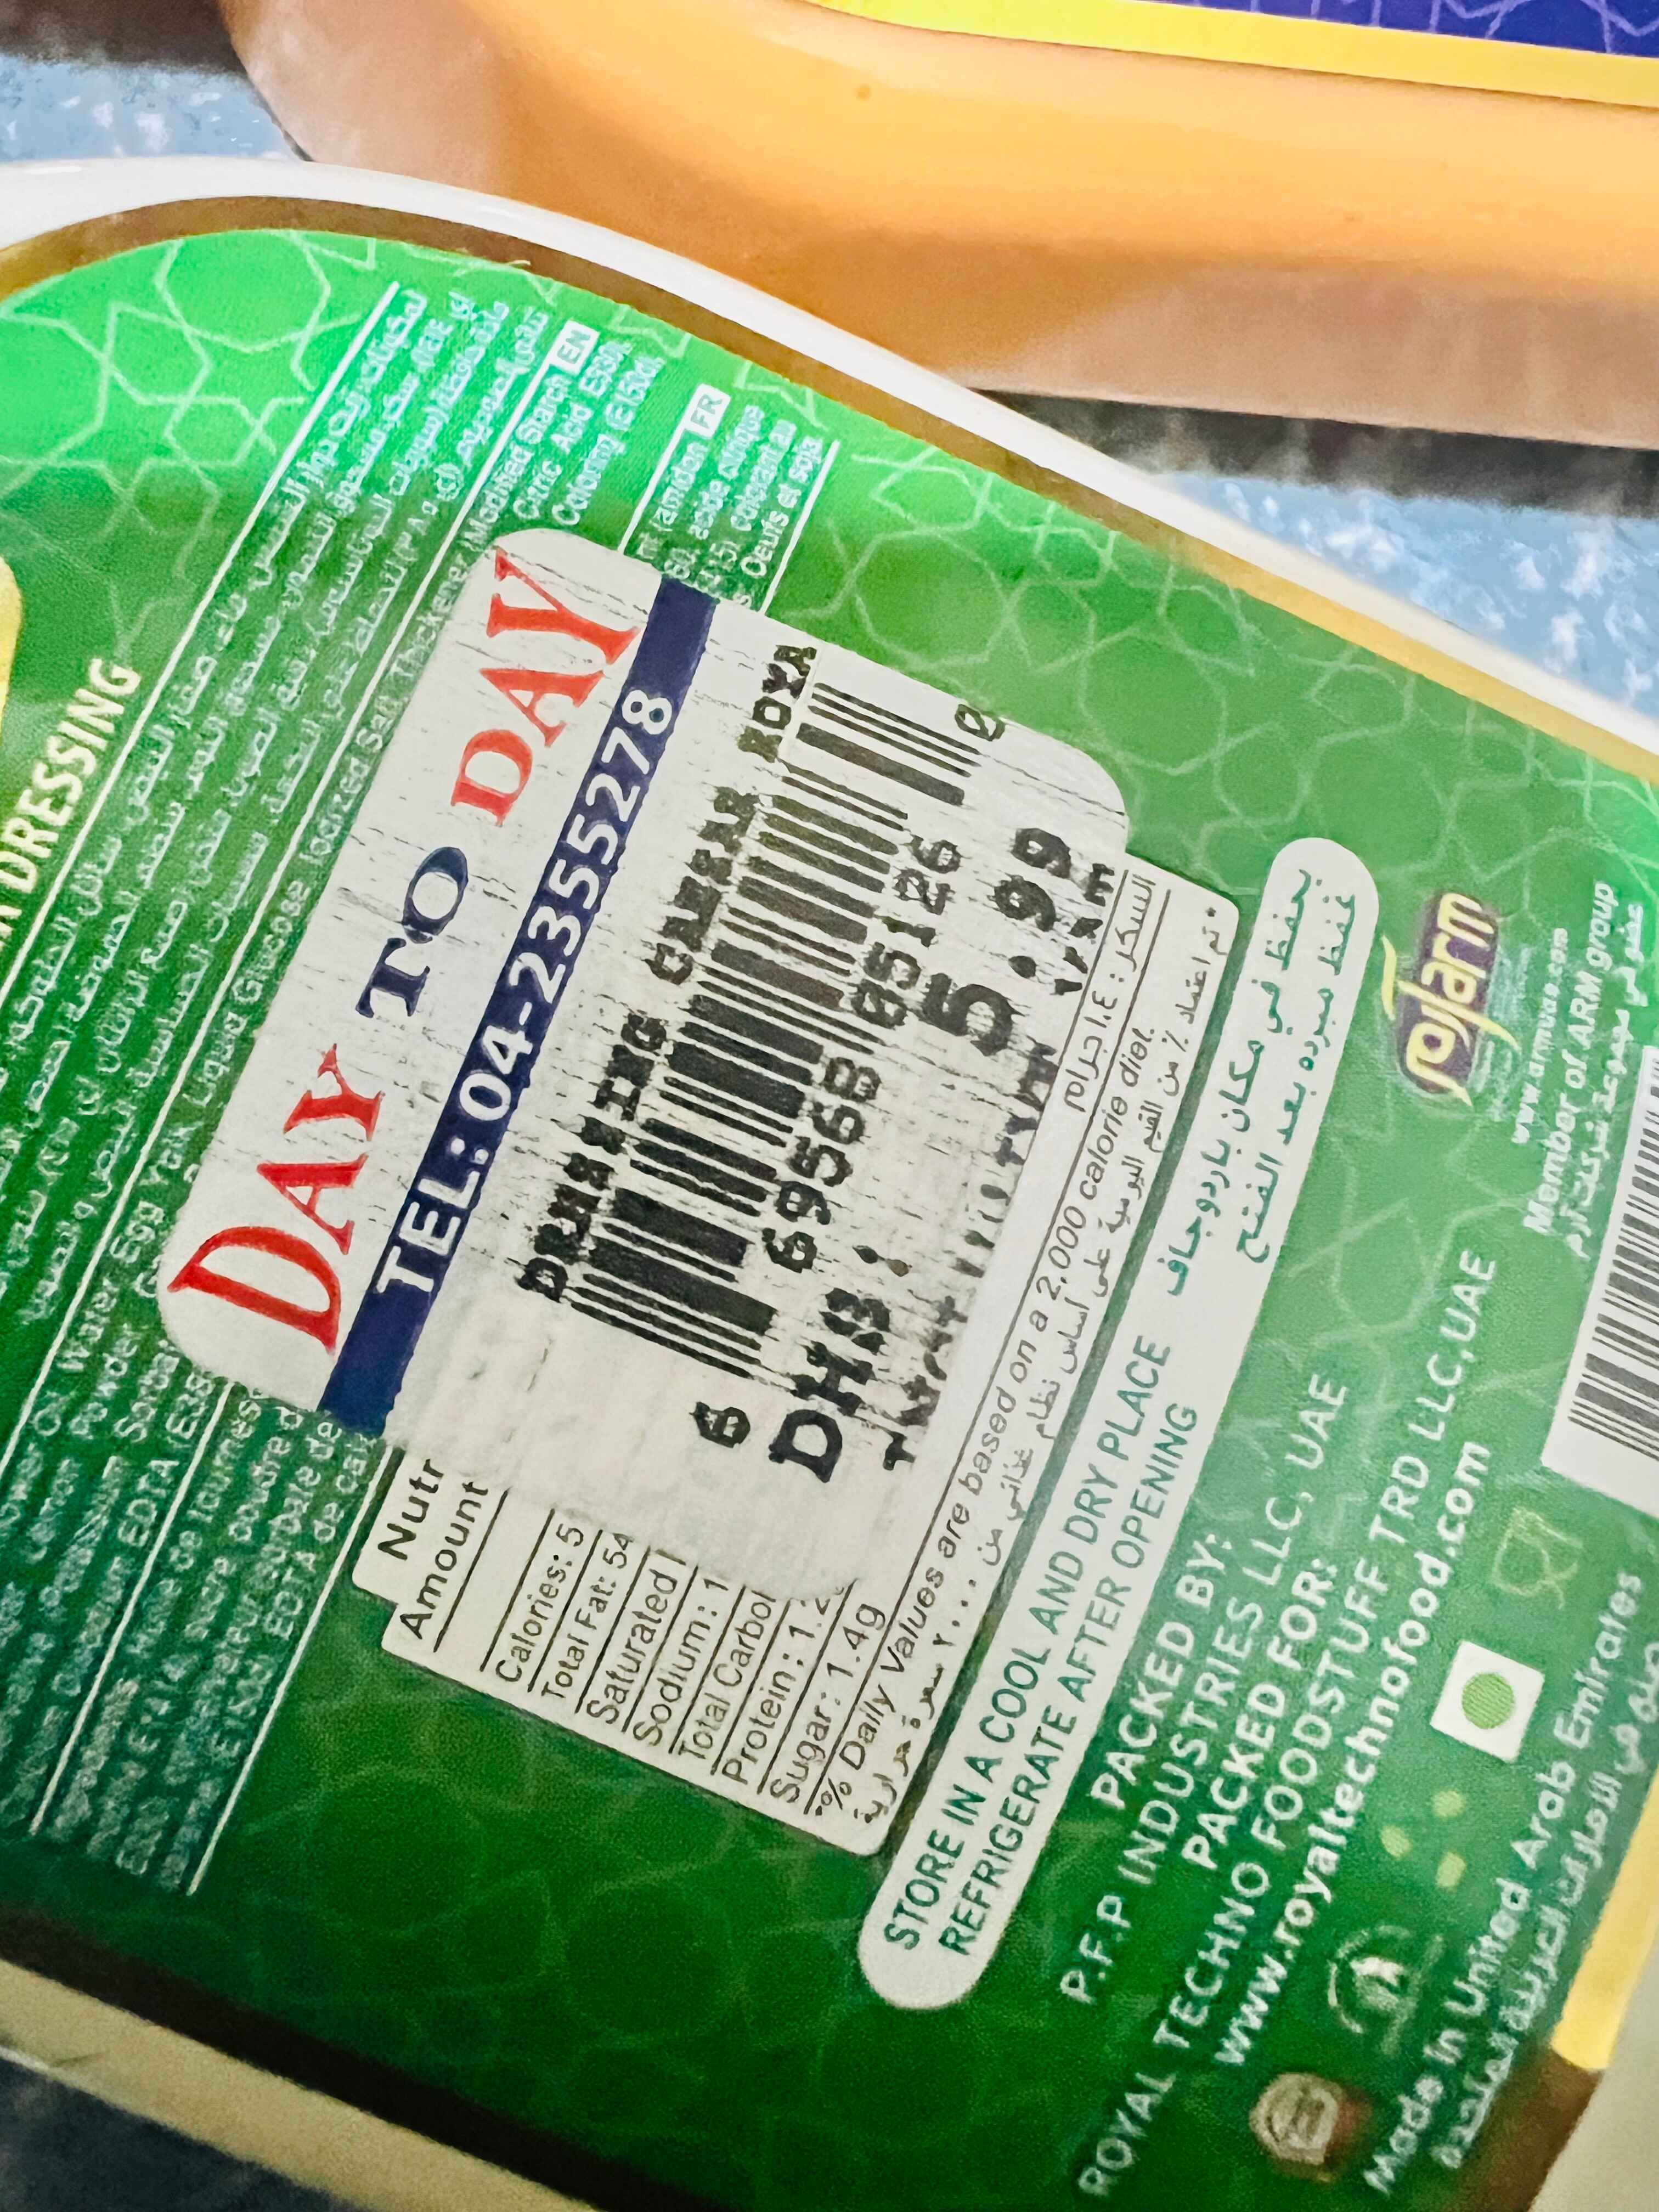PriceTagBig: (162, 540, 1143, 1623)
